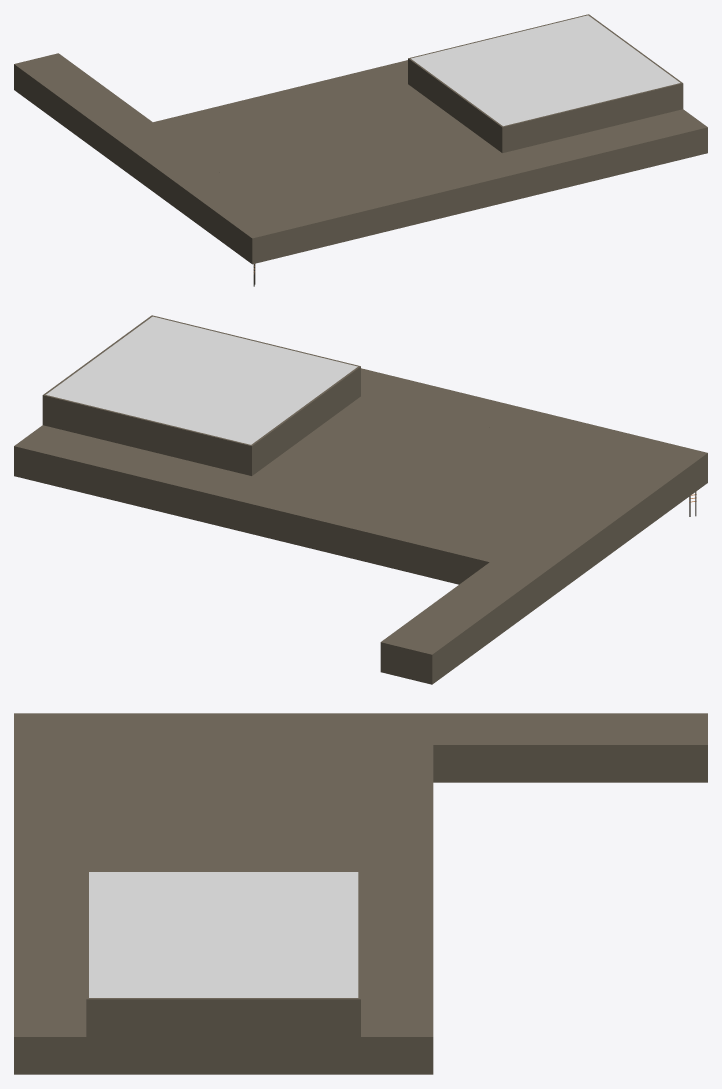
The model's file is Interior.fbx.
3 views of the same model, one above another, from view 1: azimuth 30°, elevation 25°; view 2: azimuth 150°, elevation 25°; view 3: azimuth 270°, elevation 25° (orthographic). The views are drawn at different scales.
Parts seen in each view (by area): view 1: Ceiling, Wall Excterior, Ceiling Entrance; view 2: Ceiling, Wall Excterior, Ceiling Entrance; view 3: Ceiling, Wall Excterior, Ceiling Entrance.
Boxes of the visible parts, x1,y1,x2,y2 form: Ceiling: (17,40,704,237); Wall Excterior: (14,14,707,264); Ceiling Entrance: (411,15,679,126); Ceiling: (17,320,704,653); Wall Excterior: (14,315,707,684); Ceiling Entrance: (46,316,357,444); Ceiling: (16,714,705,1035); Wall Excterior: (14,713,707,1074); Ceiling Entrance: (89,872,358,997).
Bounding box in the file's own units: 5520 × 912 × 5000.
